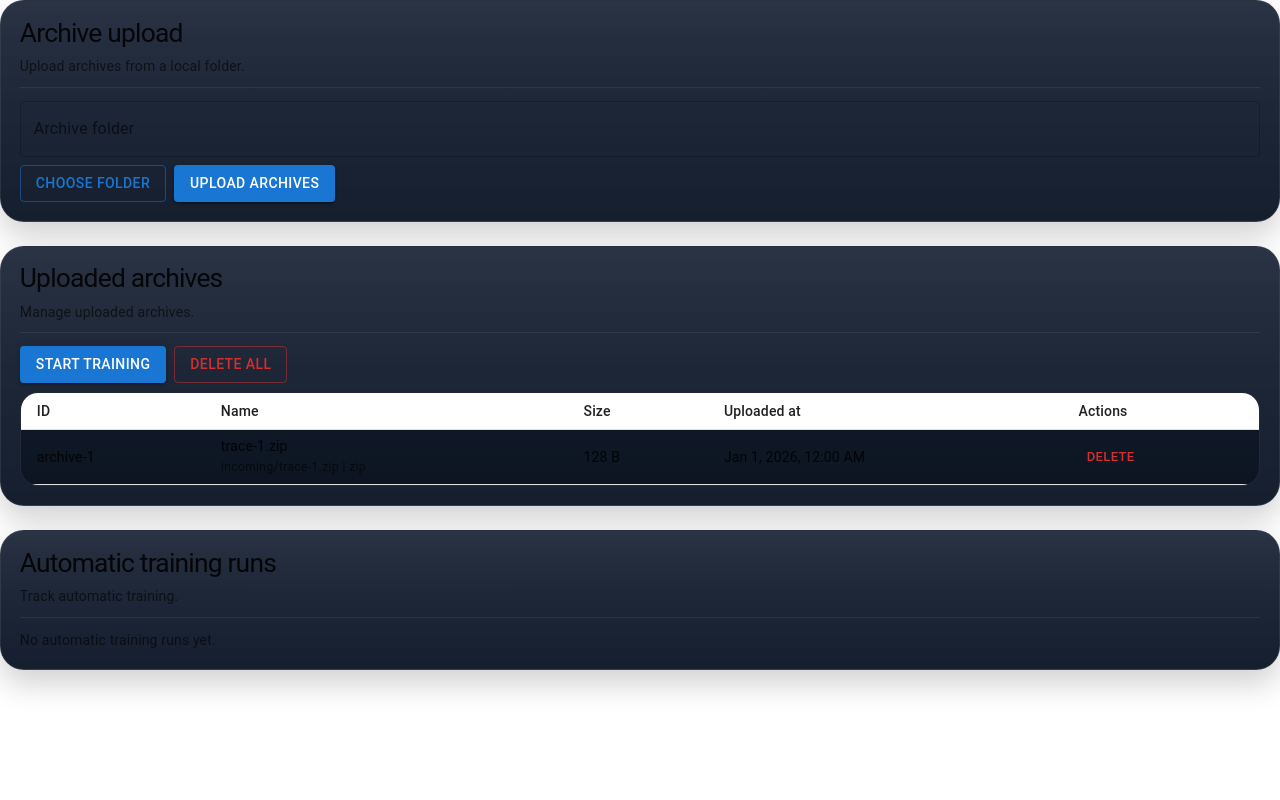
AutoTrainingPage › starts automatic training for uploaded archives
Click the button "Start training" at point(93, 364), box x1=20 y1=346 x2=166 y2=383
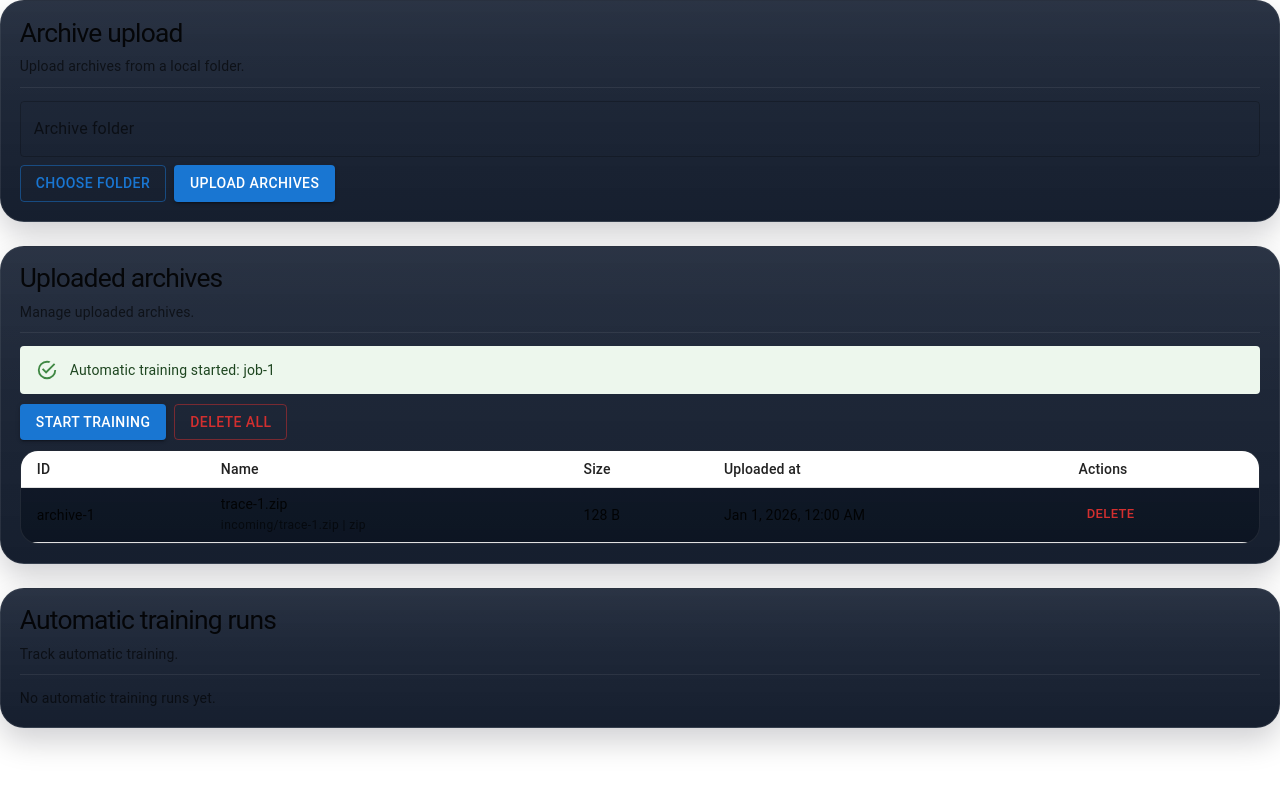
Expected: the text "Automatic training started: job-1" is shown, x1=70 y1=362 x2=275 y2=378
